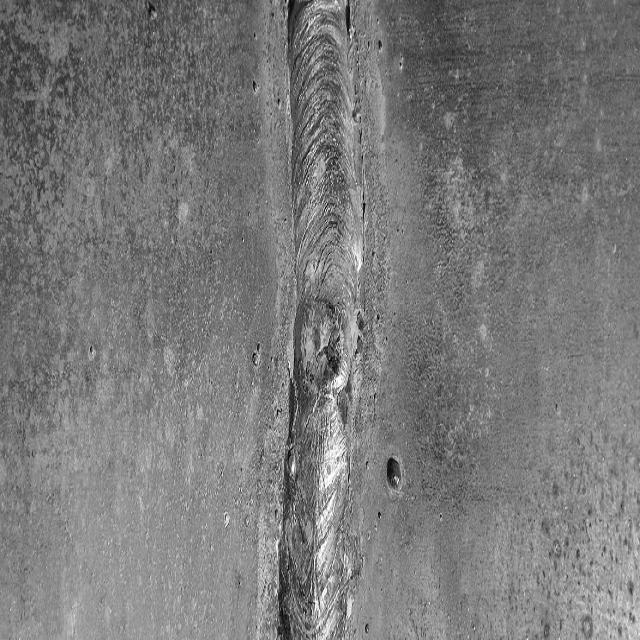Bad Weld: (276, 0, 360, 639)
